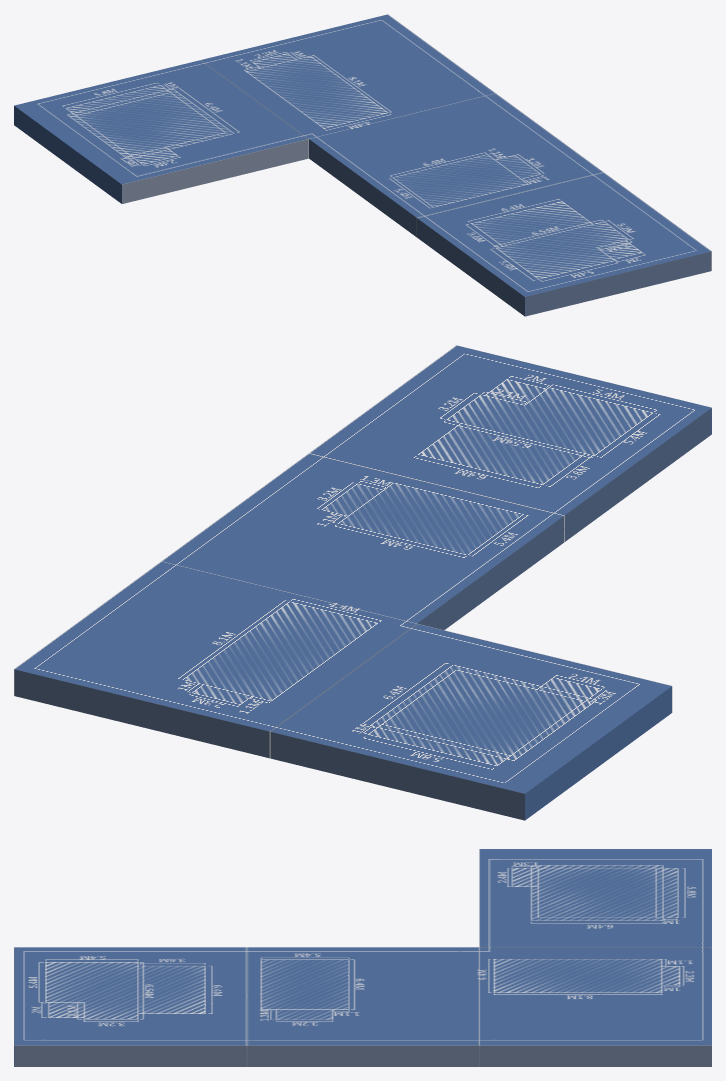
The model's file is loading_block_6.fbx.
3 views of the same model, one above another, from view 1: azimuth 30°, elevation 25°; view 2: azimuth 150°, elevation 25°; view 3: azimuth 270°, elevation 25° (orthographic). The views are drawn at different scales.
Visible parts, largest first — view 1: block_6; view 2: block_6; view 3: block_6.
Boxes of the visible parts, bbox=[...] form: block_6: bbox=[14, 14, 711, 316]; block_6: bbox=[14, 345, 711, 820]; block_6: bbox=[14, 849, 711, 1066].
Bounding box in the file's own units: 200 × 10 × 300.
